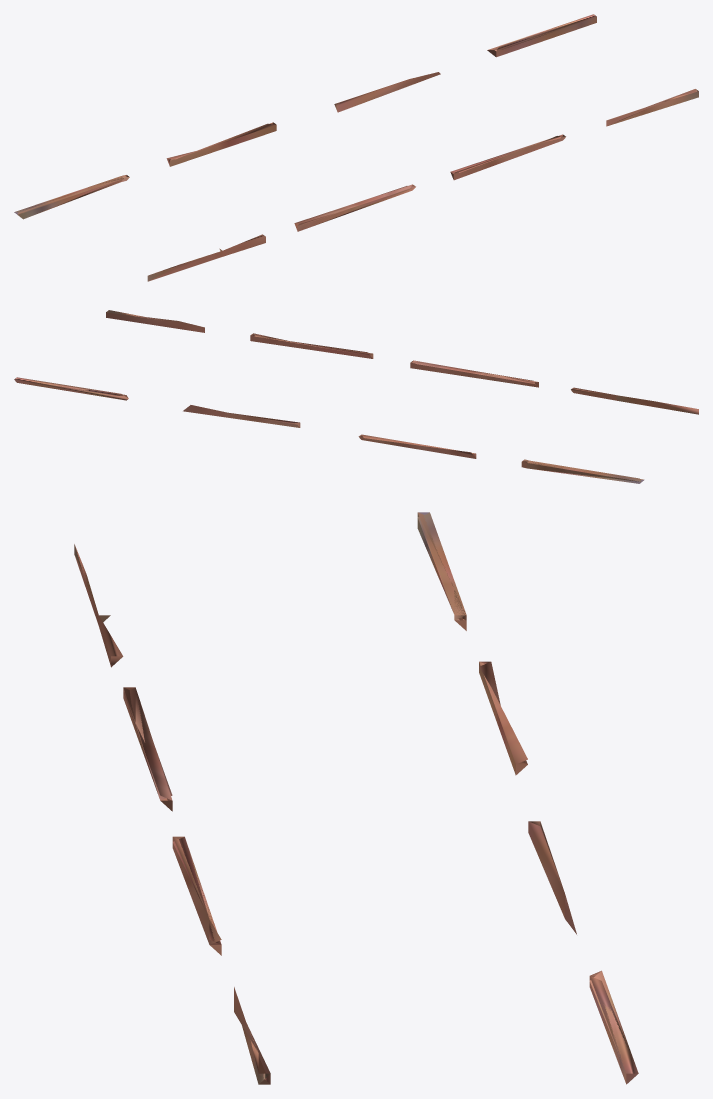
3 views of the same model, one above another, from view 1: azimuth 30°, elevation 25°; view 2: azimuth 150°, elevation 25°; view 3: azimuth 270°, elevation 25° (orthographic). The views are drawn at different scales.
Visible parts, largest first — view 1: 304362727043704273_0; view 2: 304362727043704273_0; view 3: 304362727043704273_0.
Part boxes in pixels (bbox=[...]): 304362727043704273_0: bbox=[14, 14, 698, 281]; 304362727043704273_0: bbox=[14, 310, 698, 483]; 304362727043704273_0: bbox=[74, 512, 638, 1084].
Bounding box in the file's own units: 66.89 × 0.6354 × 28.4.
Materials: 1 (1 with a texture image).
